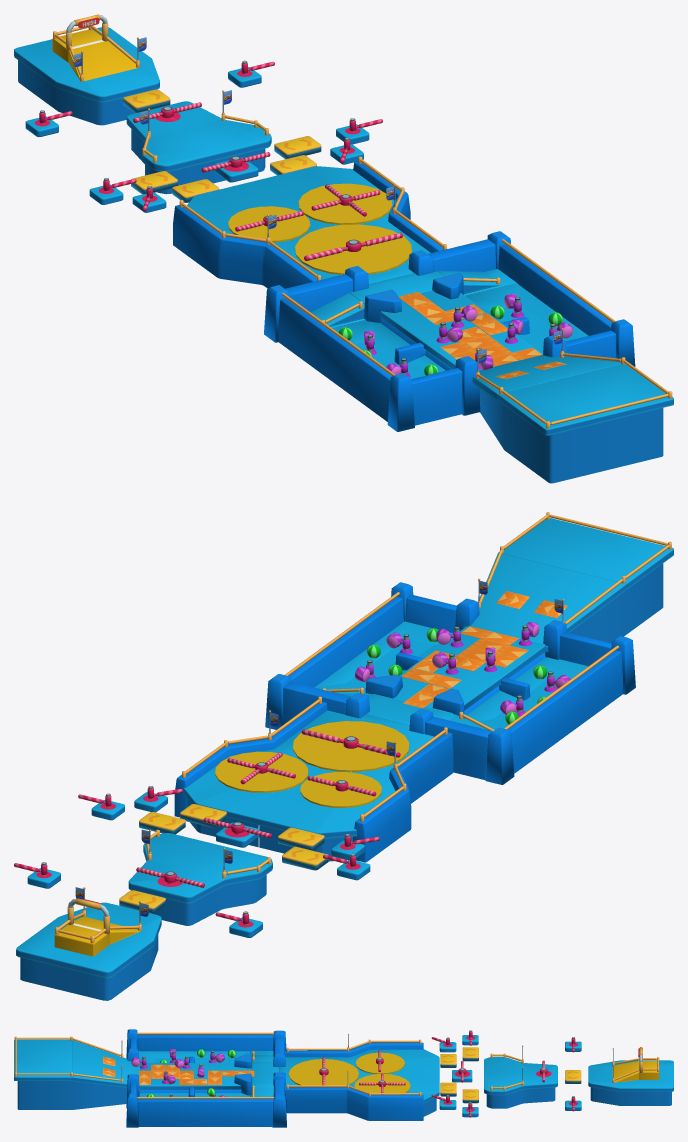
The model's file is map.glb.
The picture shows the model from 3 angles, top to bottom: view 1: azimuth 30°, elevation 25°; view 2: azimuth 150°, elevation 25°; view 3: azimuth 270°, elevation 25°; orthographic projection. The views are drawn at different scales.
Parts seen in each view (by area): view 1: mapping; view 2: mapping; view 3: mapping.
Boxes of the visible parts, <box> form: mapping: <box>14,14,673,483</box>; mapping: <box>14,512,673,1000</box>; mapping: <box>14,1029,673,1127</box>.
Size of the model in its own units: 100 by 23.83 by 333.
Materials: 32 (24 with a texture image).
